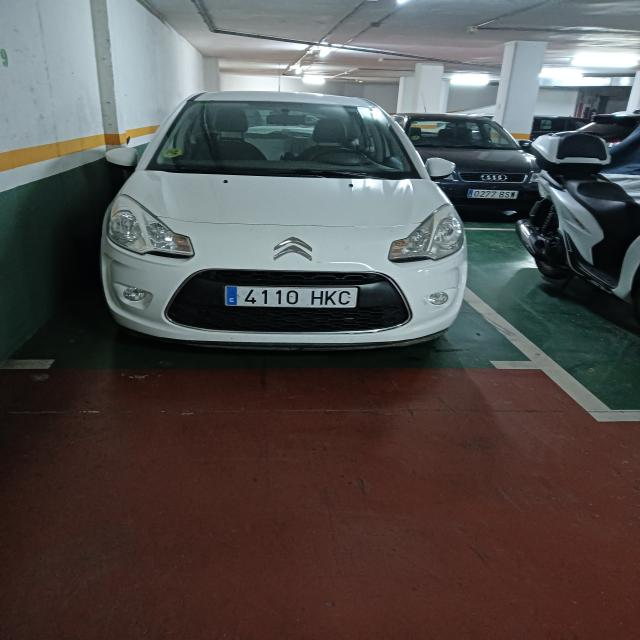license_plate-34Td: (224, 285, 358, 308)
